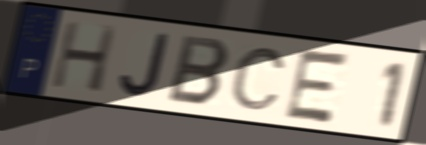1: (378, 61, 409, 131)
B: (165, 32, 233, 109)
C: (228, 45, 290, 113)
E: (280, 46, 354, 127)
H: (48, 18, 120, 95)
J: (116, 30, 173, 100)
